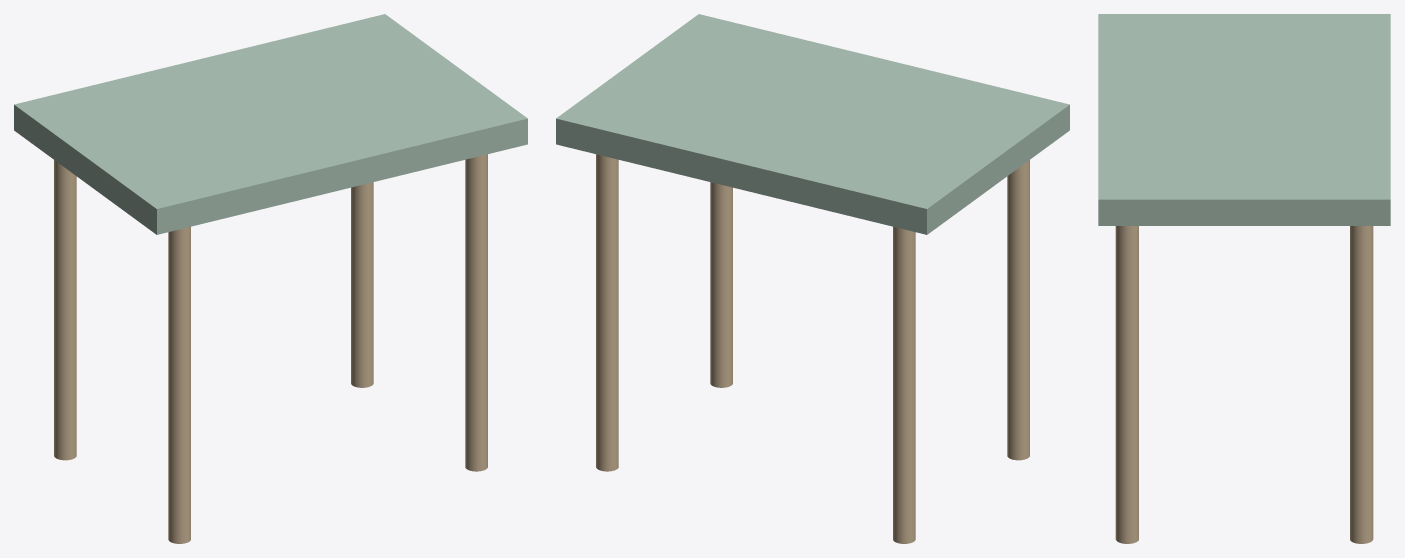
3 views of the same model, side by side, from view 1: azimuth 30°, elevation 25°; view 2: azimuth 150°, elevation 25°; view 3: azimuth 270°, elevation 25° (orthographic). The views are drawn at different scales.
Parts seen in each view (by area): view 1: Tabletop, Table leg (×4); view 2: Tabletop, Table leg (×4); view 3: Tabletop, Table leg (×2).
Boxes of the visible parts, left/top/right/bottom form: Tabletop: left=14, top=14, right=527, bottom=234; Table leg (×4): left=54, top=154, right=487, bottom=543; Tabletop: left=556, top=14, right=1069, bottom=234; Table leg (×4): left=596, top=154, right=1029, bottom=543; Tabletop: left=1098, top=14, right=1390, bottom=225; Table leg (×2): left=1115, top=226, right=1373, bottom=543.
Bounding box in the file's own units: 0.3 × 0.27 × 0.2.
